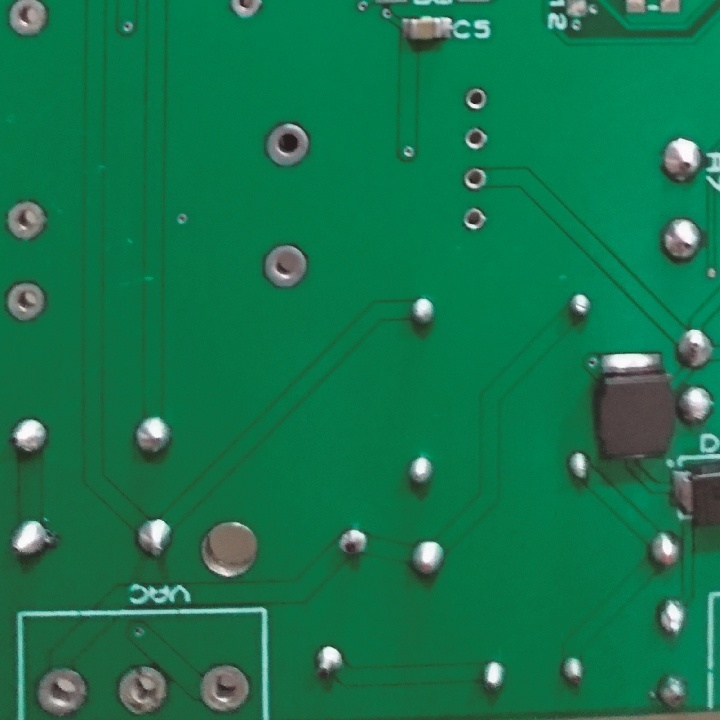F: (36, 663, 92, 720), (116, 665, 168, 717), (201, 662, 247, 718), (1, 280, 51, 327), (264, 123, 313, 169), (261, 241, 307, 290), (2, 199, 51, 242), (6, 1, 53, 41), (227, 1, 267, 23), (459, 204, 487, 232), (461, 84, 488, 112), (461, 125, 487, 151), (461, 165, 487, 191)
